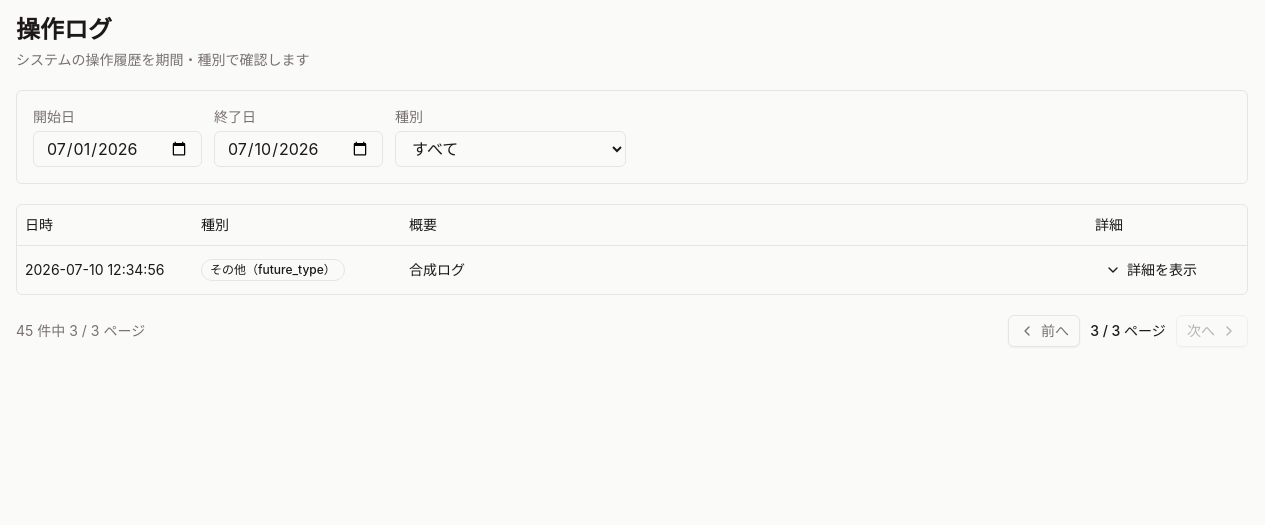
Test case: UI-11c REQ-902 › keeps the last valid list and expanded row while an inverted range is corrected
Click the button "詳細を表示": (1151, 270) [1095,254,1207,286]
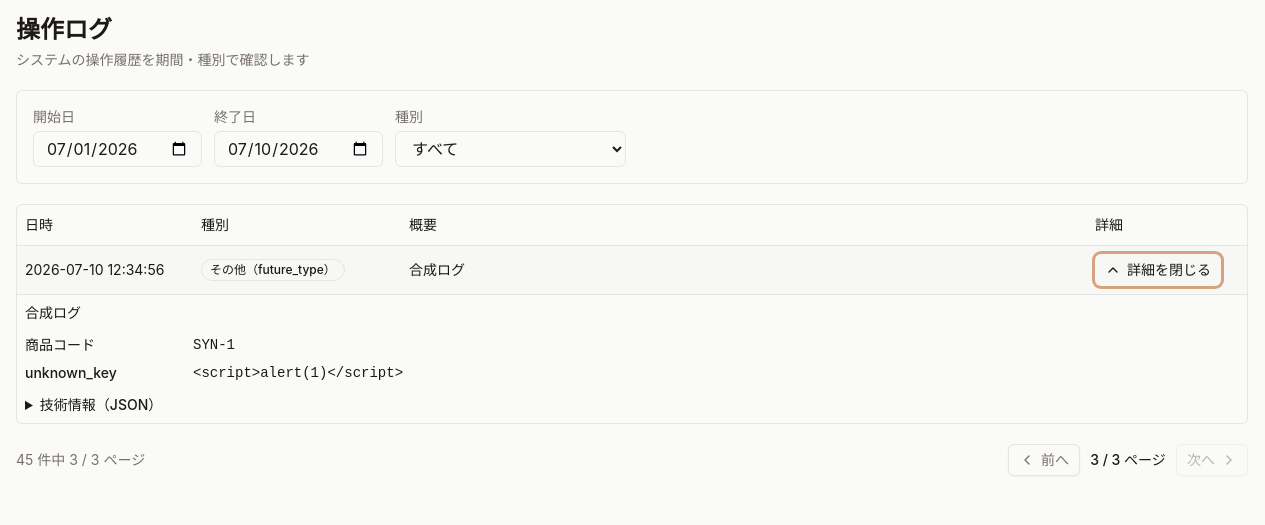
Expected: the text "45 件中 3 / 3 ページ" is shown, [16,450,145,470]
Result: the text "商品コード" is shown at [25,336,95,352]
In the date field labelled "開始日": (118, 149) [33,131,202,167], type "2026-07-11"
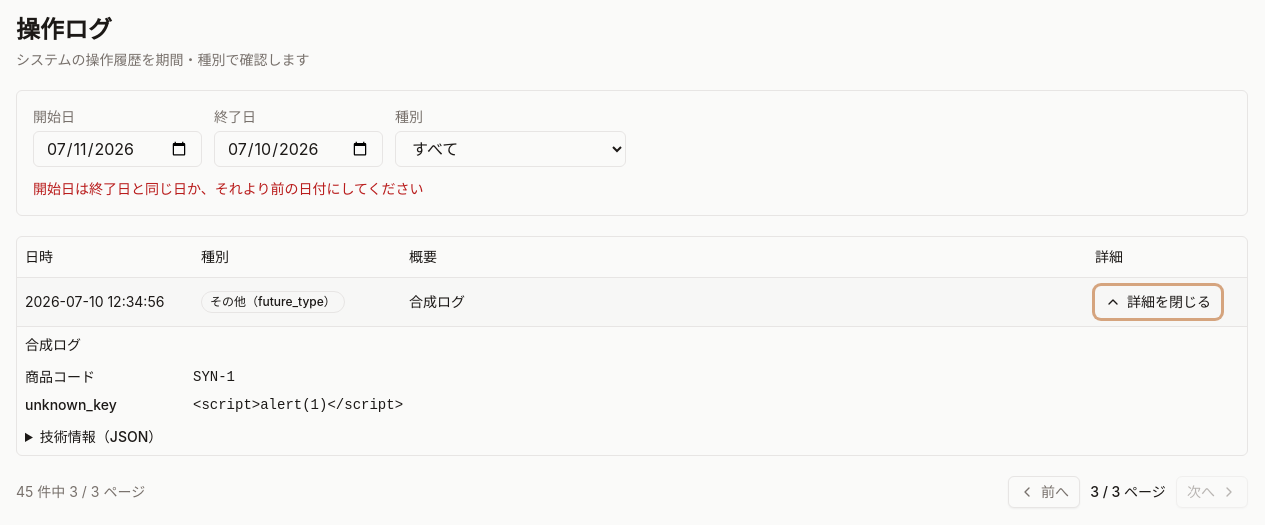
Result: the text "合成ログ" is shown 2 times at [401,277,1087,326]; [25,336,81,352]
Result: the text "商品コード" is shown at [25,368,95,384]
Result: the message reads "開始日は終了日と同じ日か、それより前の日付にしてください" at [33,180,424,197]
In the date field labelled "開始日": (118, 149) [33,131,202,167], type "2026-07-02"
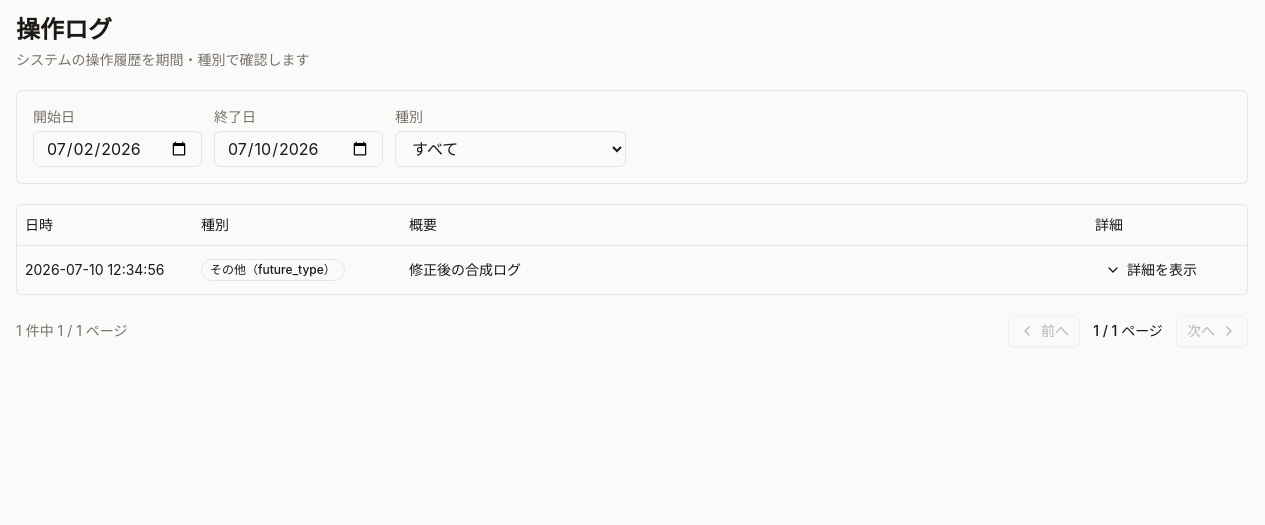
Result: the text "修正後の合成ログ" is shown at [401,245,1087,294]
